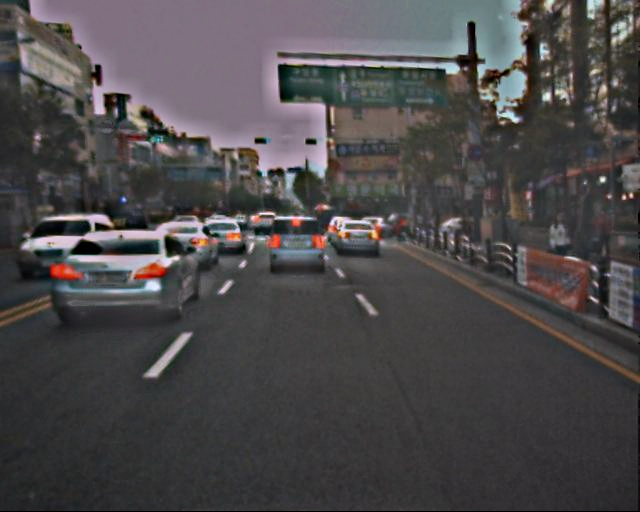person: (545, 208, 576, 283), (592, 209, 613, 261)
